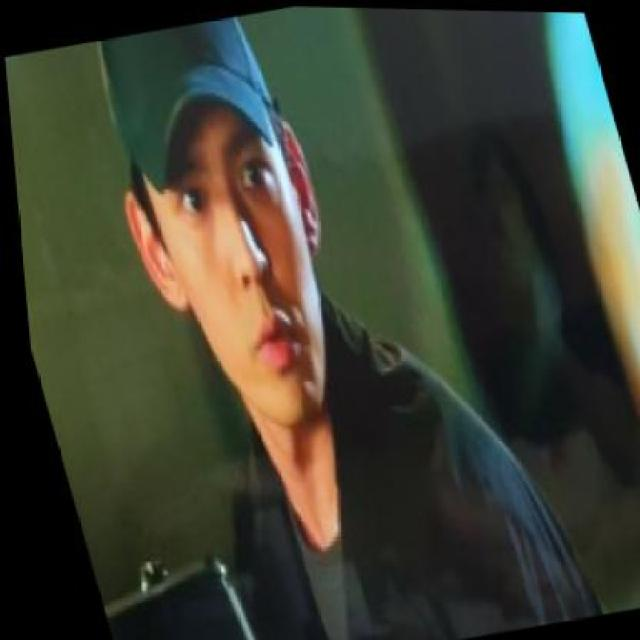hat: (83, 9, 292, 197)
